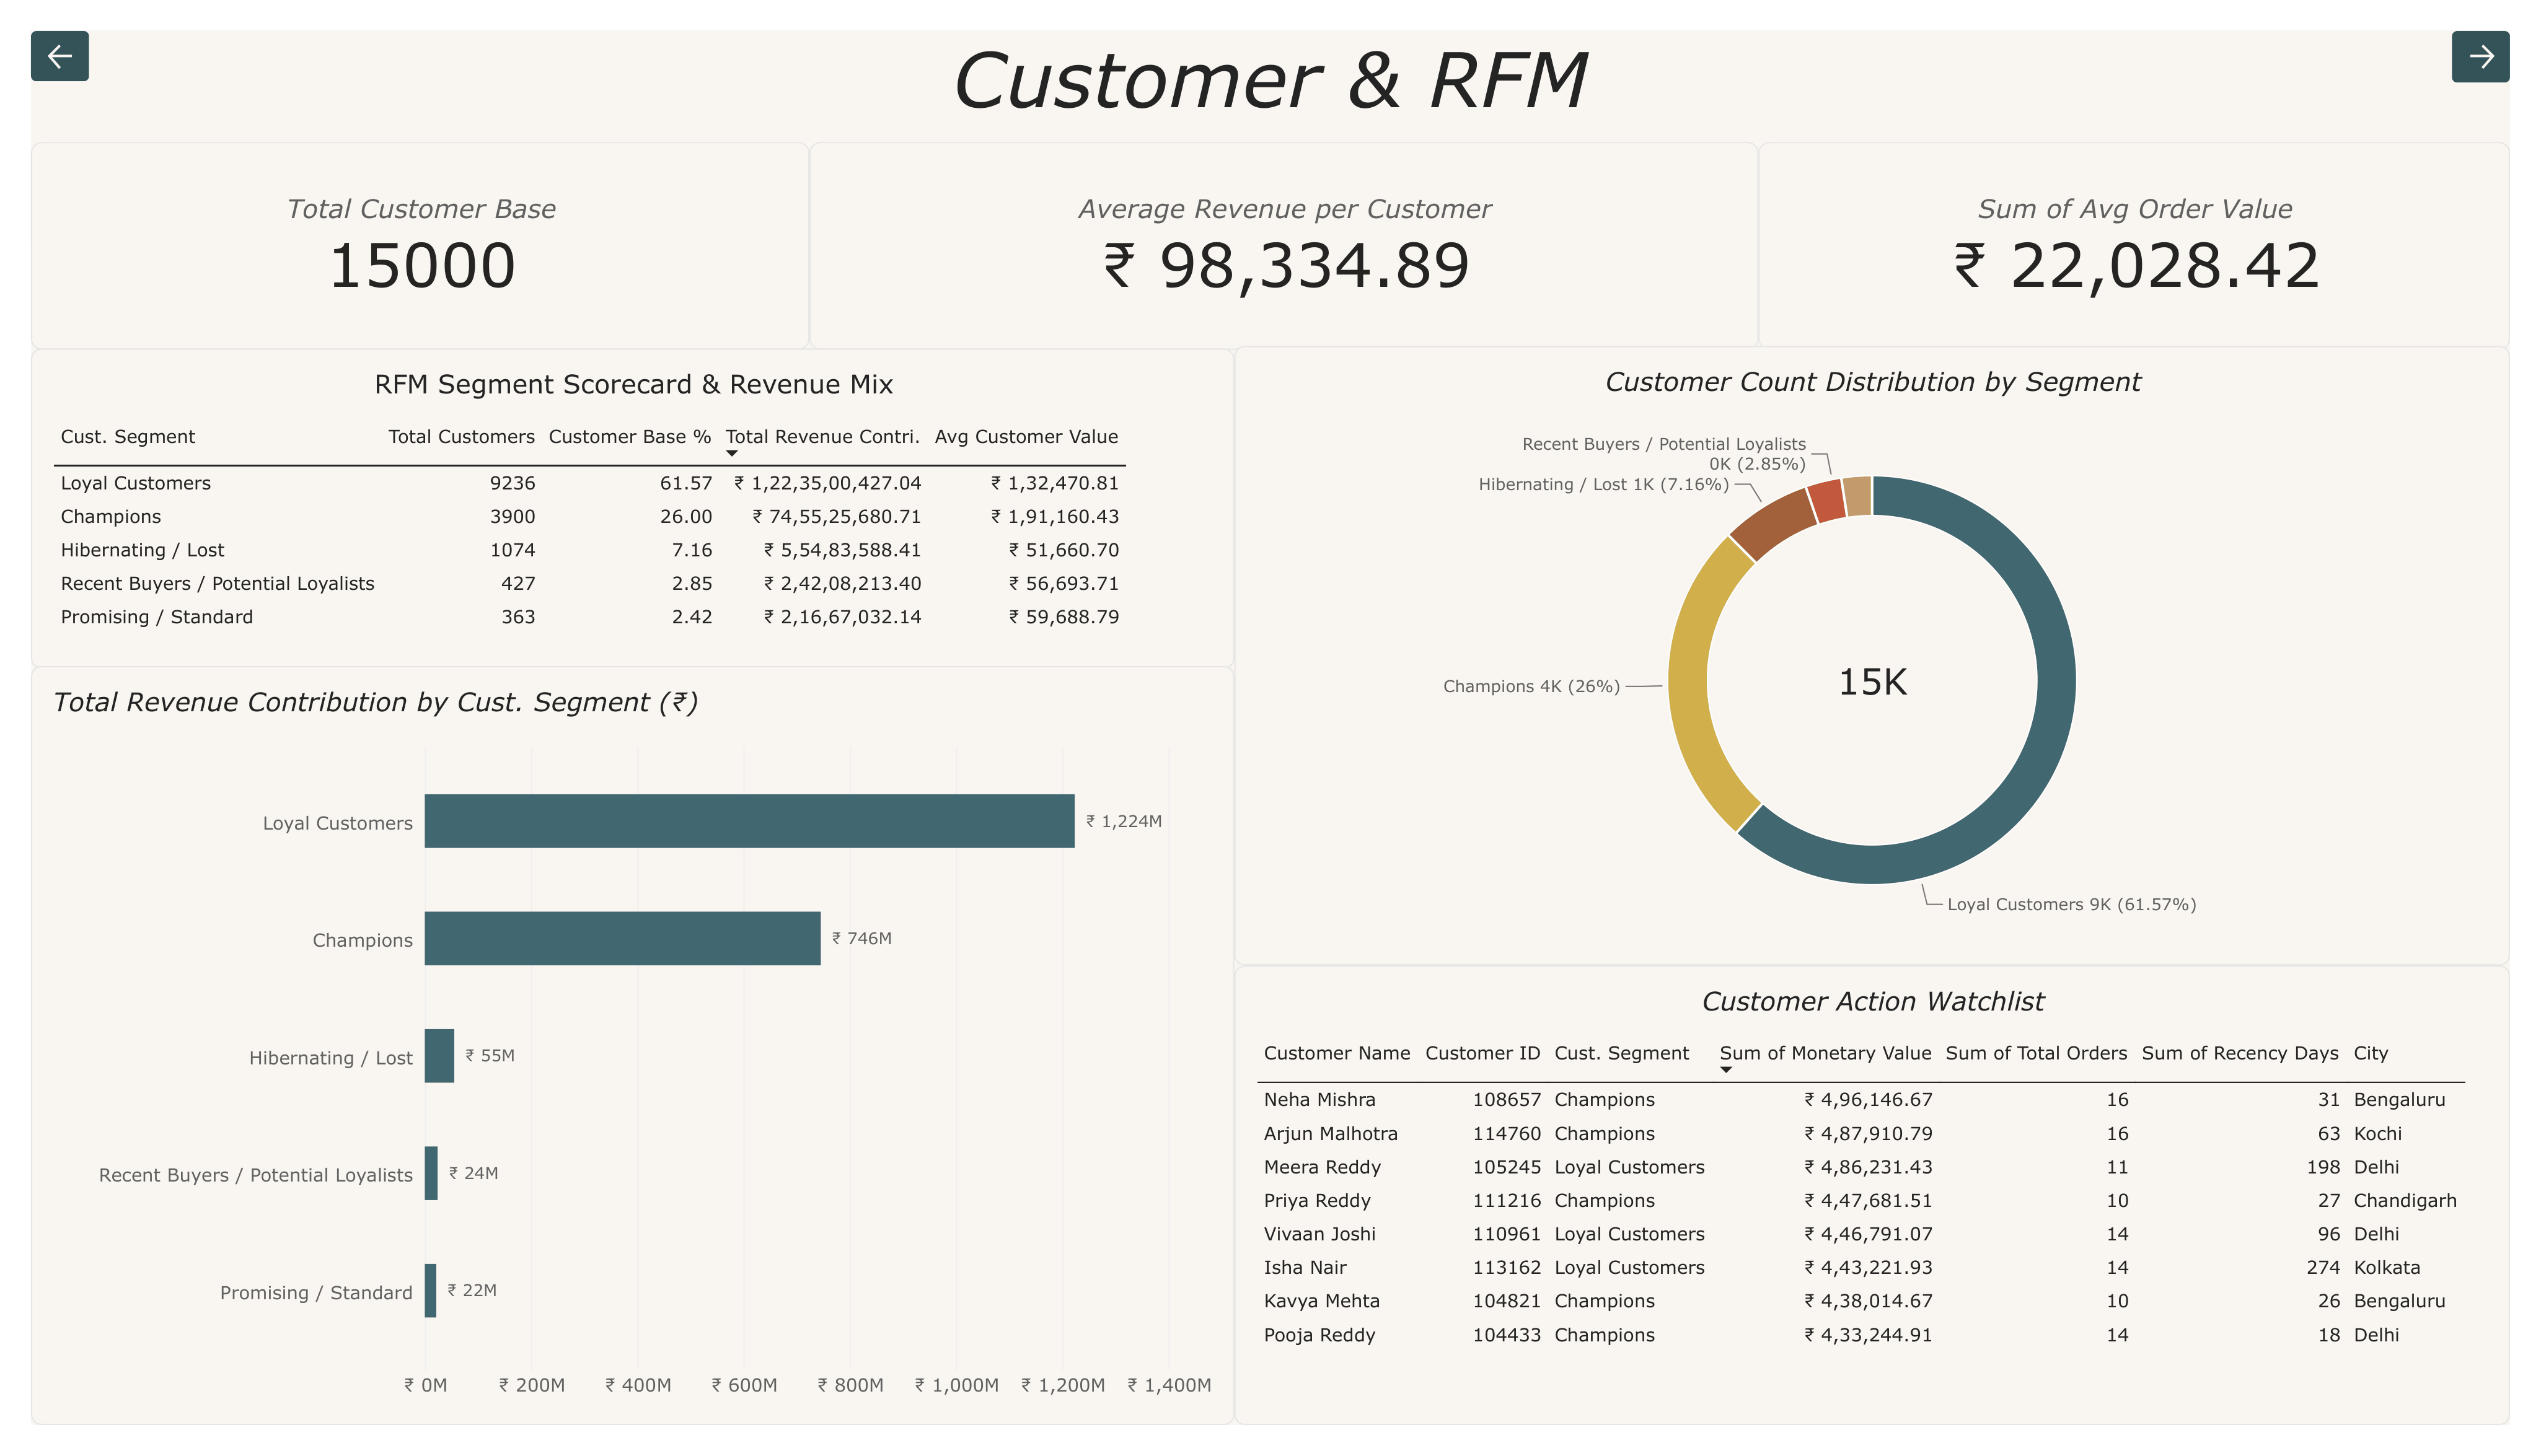

What the dashboard file says about the page in this screenshot:
{"tool":"powerbi","page":{"name":"Customer & RFM","canvas":[1920,1080],"ordinal":2},"visuals":[{"type":"cardVisual","fields":{"Data":["Sum(shopsphere vw_rfm_segment_summary.total_customers)"]},"box":[0,86.4,603.1,160.5],"z":0},{"type":"cardVisual","fields":{"Data":["Avg(shopsphere vw_rfm_segment_summary.avg_customer_value)"]},"box":[603.1,86.4,734.8,160.5],"z":1000},{"type":"cardVisual","title":"Average Order Value","fields":{"Data":["Sum(shopsphere vw_sales_summary.Avg Order Value)"]},"box":[1337.9,86.4,582.5,160.5],"z":2000},{"type":"tableEx","title":"RFM Segment Scorecard & Revenue Mix","fields":{"Values":["shopsphere vw_rfm_segment_summary.customer_segment","shopsphere vw_rfm_segment_summary.total_customers","shopsphere vw_rfm_segment_summary.pct_of_customer_base","shopsphere vw_rfm_segment_summary.total_revenue_contribution","shopsphere vw_rfm_segment_summary.avg_customer_value"]},"box":[0,246.1,932,247.9],"z":3000},{"type":"tableEx","title":"Customer Action Watchlist","fields":{"Values":["shopsphere vw_customer_rfm.customer_name","shopsphere vw_customer_rfm.customer_id","shopsphere vw_customer_rfm.customer_segment","Sum(shopsphere vw_customer_rfm.monetary_value)","Sum(shopsphere vw_customer_rfm.total_orders)","Sum(shopsphere vw_customer_rfm.recency_days)","shopsphere vw_customer_rfm.city"]},"box":[932,723.9,988.1,356.5],"z":4000},{"type":"donutChart","title":"Customer Count Distribution by Segment","fields":{"Category":["shopsphere vw_rfm_segment_summary.customer_segment"],"Y":["Sum(shopsphere vw_rfm_segment_summary.total_customers)"]},"box":[932,244.3,988.1,479.6],"z":5000},{"type":"clusteredBarChart","title":"Total Revenue Contribution by Cust. Segment (₹)","fields":{"Category":["shopsphere vw_rfm_segment_summary.customer_segment"],"Y":["Sum(shopsphere vw_rfm_segment_summary.total_revenue_contribution)"]},"box":[0,492.2,932,588.1],"z":6000},{"type":"textbox","box":[0,0,1920.4,86],"z":7000},{"type":"actionButton","box":[0,0,45,39],"z":8000},{"type":"actionButton","box":[1874.8,0,45,39.8],"z":9000}]}

Visuals, with their boxes on the page's 1920x1080 design canvas (x1, y1, x2, y2). These are canvas units, not pixel positions in the 2541x1456 screenshot, which may show the page scaled, cropped or inside an application window:
cardVisual - Sum(shopsphere vw_rfm_segment_summary.total_customers): box=[0, 86, 603, 247]
cardVisual - Avg(shopsphere vw_rfm_segment_summary.avg_customer_value): box=[603, 86, 1338, 247]
"Average Order Value" cardVisual: box=[1338, 86, 1920, 247]
"RFM Segment Scorecard & Revenue Mix" tableEx: box=[0, 246, 932, 494]
"Customer Action Watchlist" tableEx: box=[932, 724, 1920, 1080]
"Customer Count Distribution by Segment" donutChart: box=[932, 244, 1920, 724]
"Total Revenue Contribution by Cust. Segment (₹)" clusteredBarChart: box=[0, 492, 932, 1080]
textbox: box=[0, 0, 1920, 86]
actionButton: box=[0, 0, 45, 39]
actionButton: box=[1875, 0, 1920, 40]
